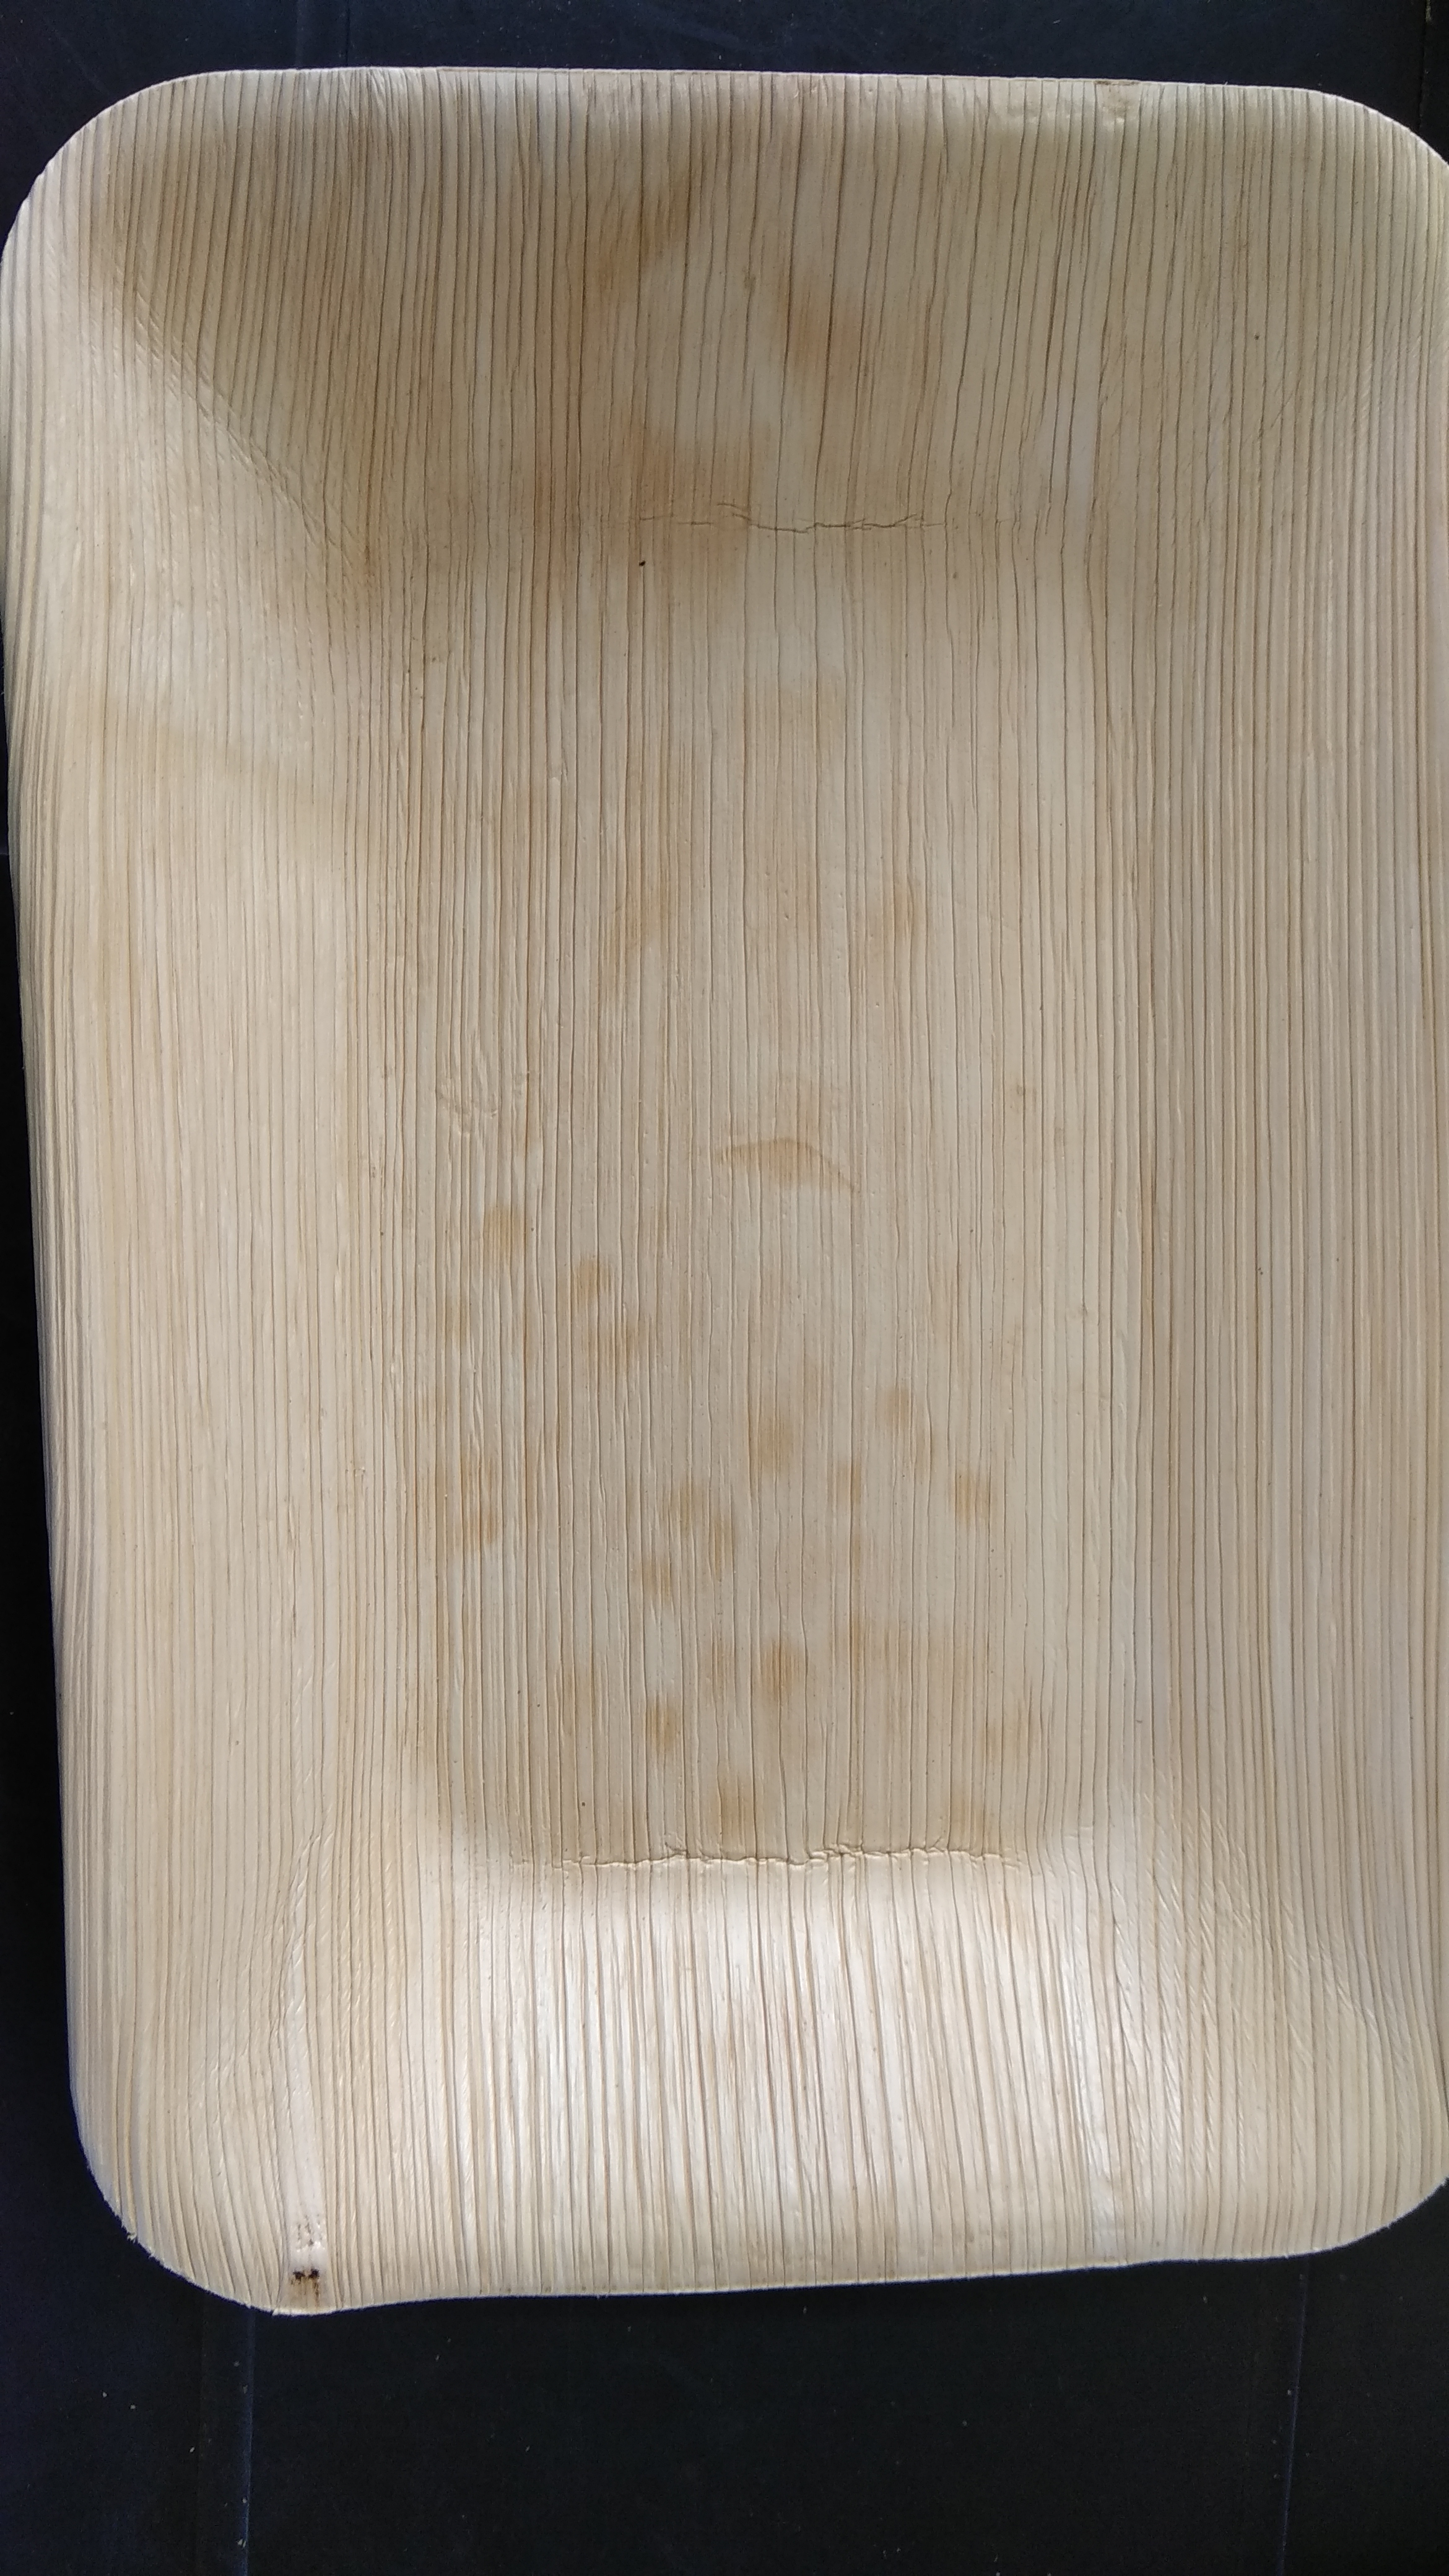areca plate: (37, 62, 1449, 2288)
